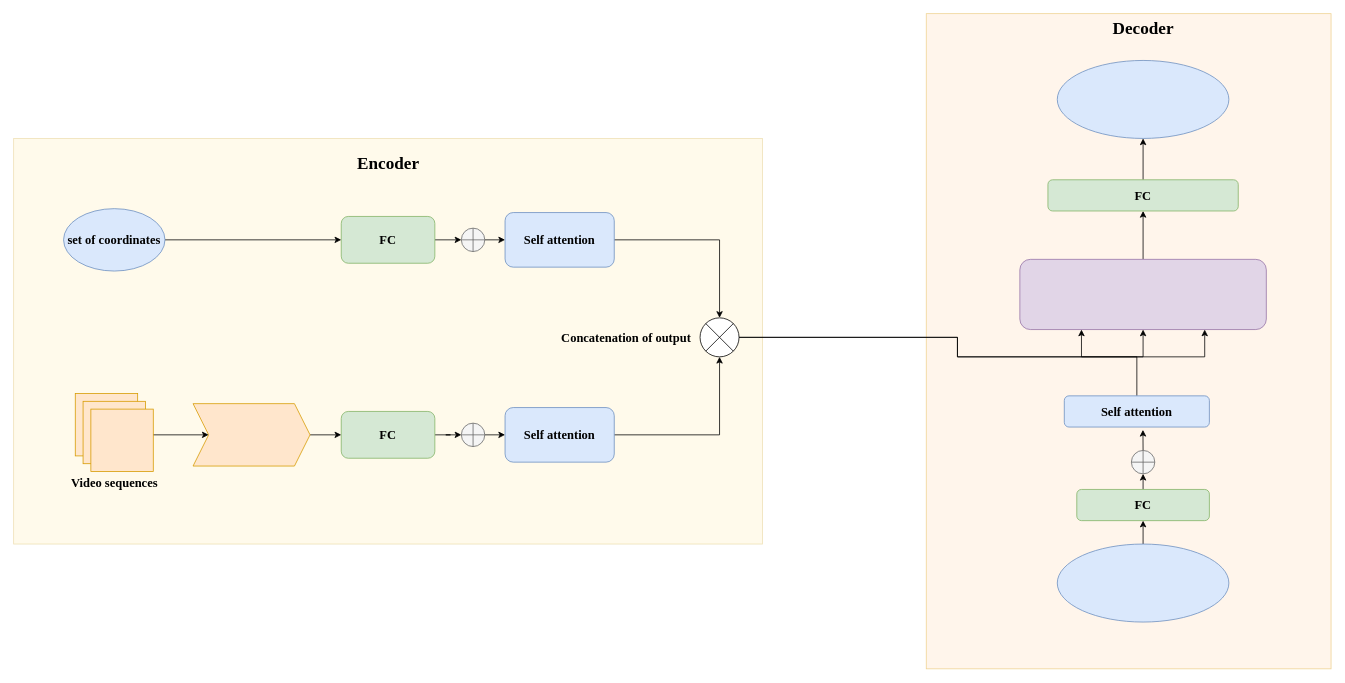
Image size: 1345x683. Some labels were removed from this diagram. Here are the shapes that lost their labels. From the top down, the centre of each, then its label:
At point 1143,99: "Prediction".
At point 1142,294: "Encoder decoder attention".
At point 251,434: "ResNet".
At point 1143,582: "Ground truth (labels)".
